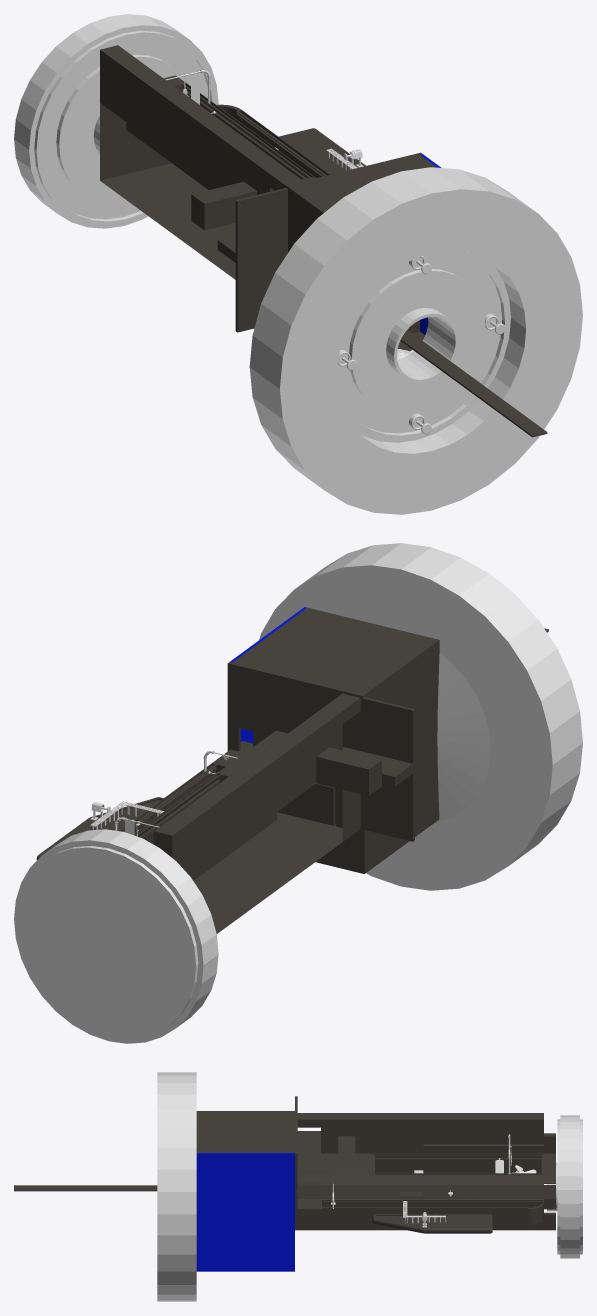
File: Lvl5_MAL.fbx
3 renders of one model, top to bottom at view 1: azimuth 30°, elevation 25°; view 2: azimuth 150°, elevation 25°; view 3: azimuth 270°, elevation 25°, orthographic. The views are drawn at different scales.
Visible parts, largest first — view 1: rueda, Lvl5; view 2: rueda, Lvl5; view 3: Lvl5, rueda.
Part boxes in pixels (x1,y1,x2,y2): rueda: (14, 14, 582, 514); Lvl5: (100, 45, 547, 437); rueda: (14, 543, 582, 1043); Lvl5: (36, 607, 548, 933); Lvl5: (14, 1096, 555, 1271); rueda: (157, 1072, 582, 1301).
Bounding box in the file's own units: 4508 × 4508 × 11188.
